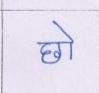e_matra: (52, 21, 76, 41)
